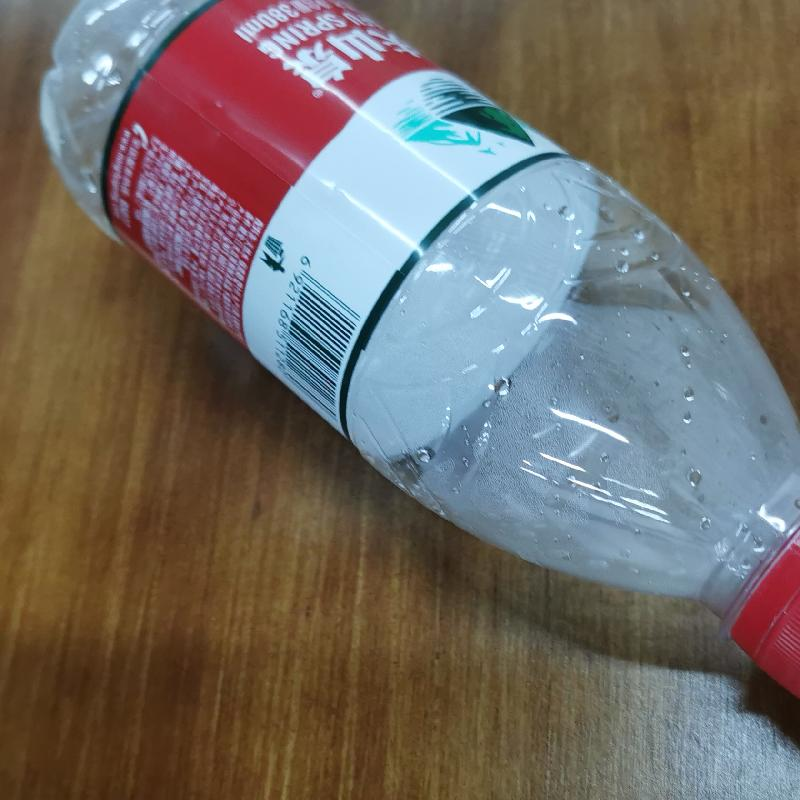bottles: (34, 11, 799, 698)
